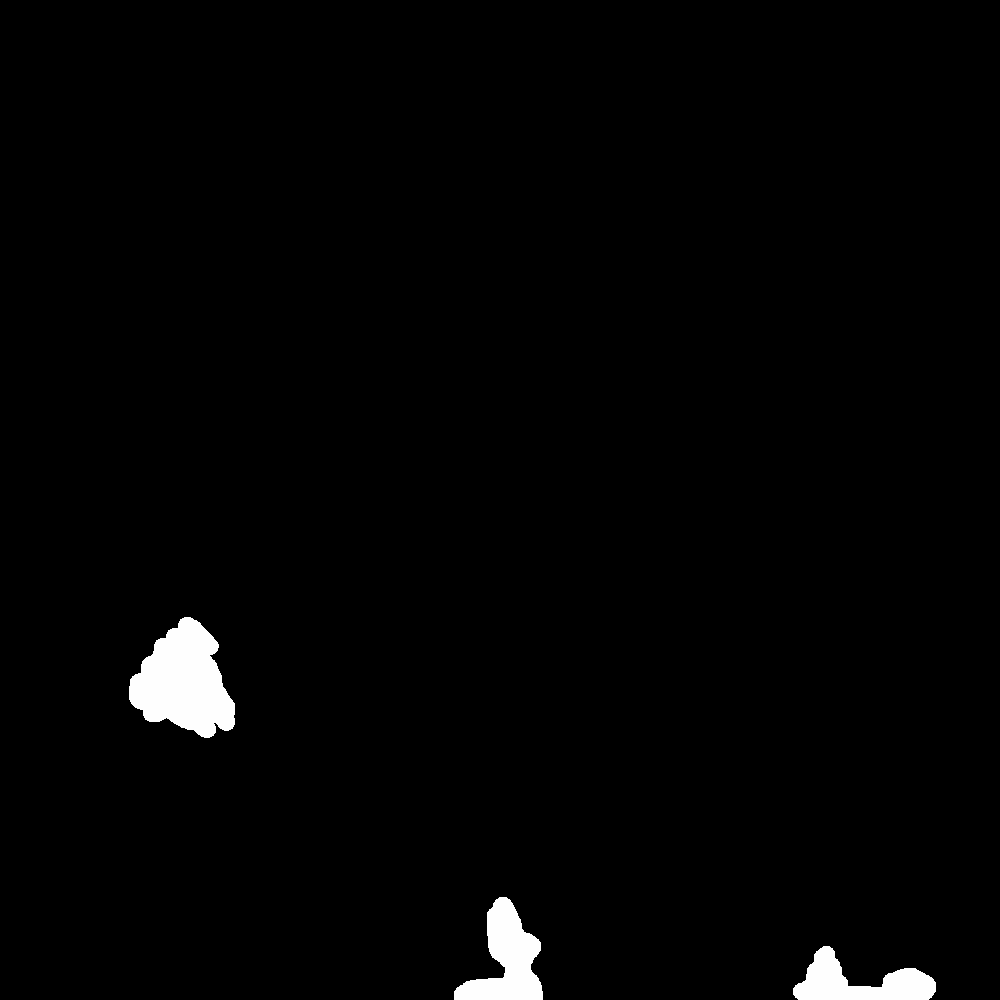illegal: (119, 631, 236, 750), (724, 940, 940, 1000), (466, 897, 547, 1000)
